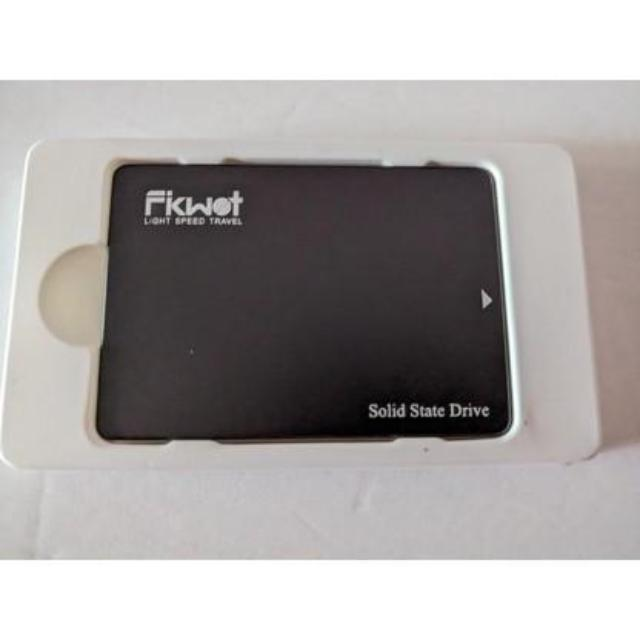DISK: (91, 158, 518, 450)
